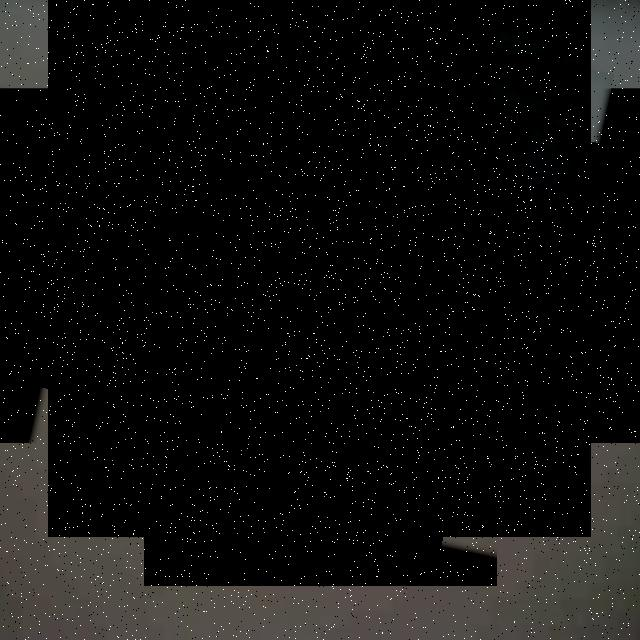dua puluh ribu rupiah: (48, 0, 591, 537)
